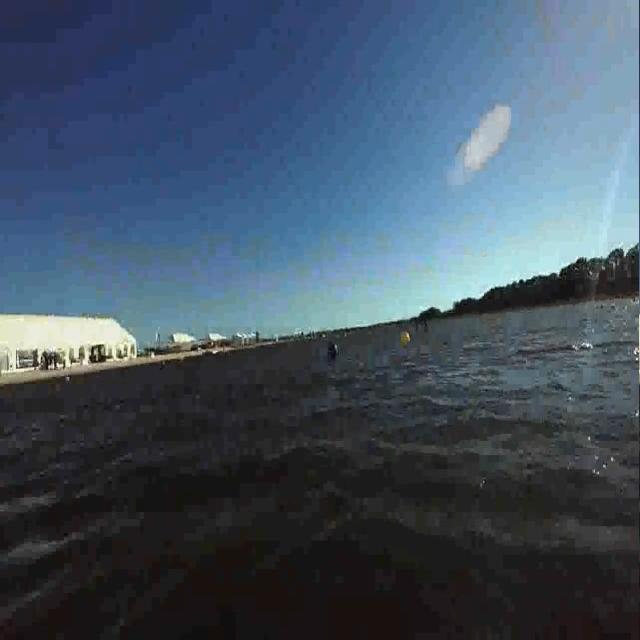yellow-buoy: (399, 327, 415, 351)
